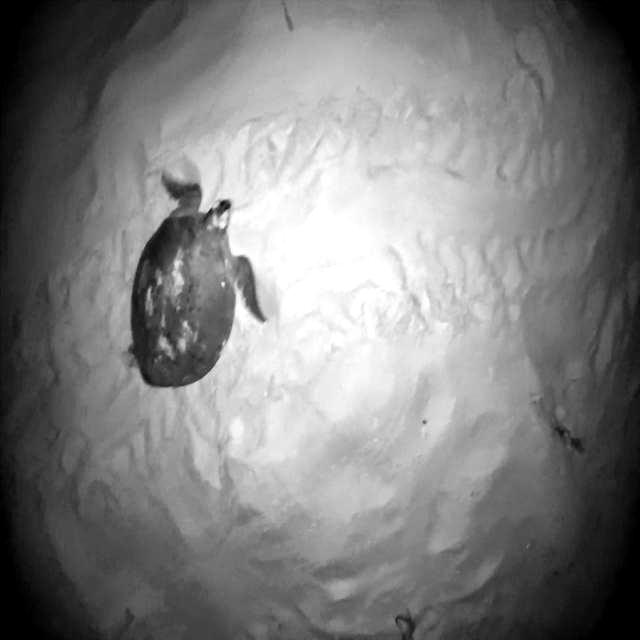Sea turtle: (110, 150, 280, 398)
